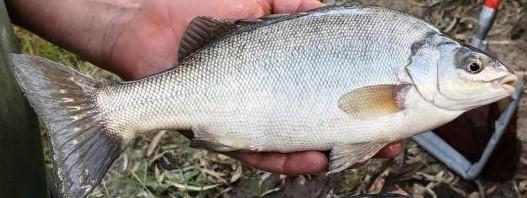Silver Perch: (7, 2, 519, 189)
